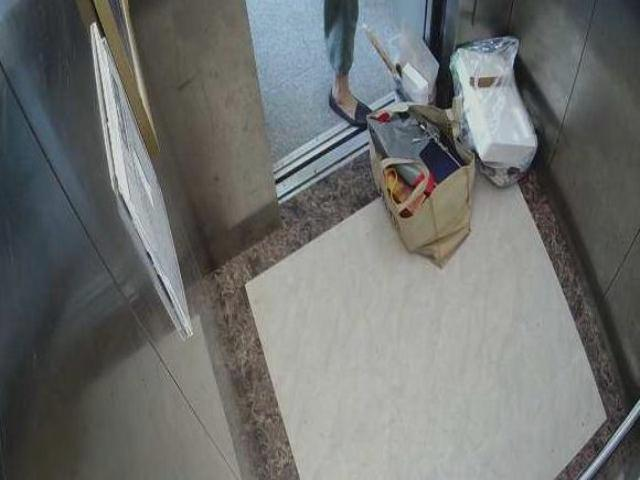bag: (360, 100, 475, 263), (455, 46, 545, 189), (386, 33, 459, 122)
